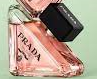prada_paradoxe: (6, 2, 87, 78)
